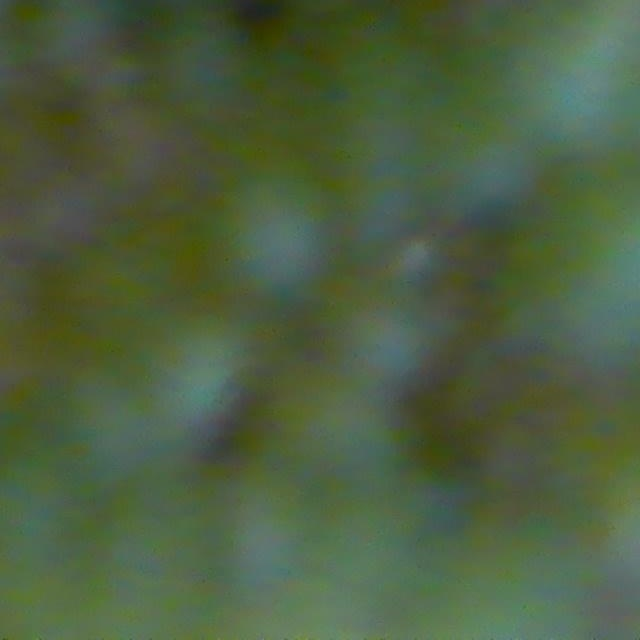SeaGrape: (510, 171, 640, 347), (214, 165, 330, 294), (125, 326, 240, 438), (345, 299, 441, 390)
